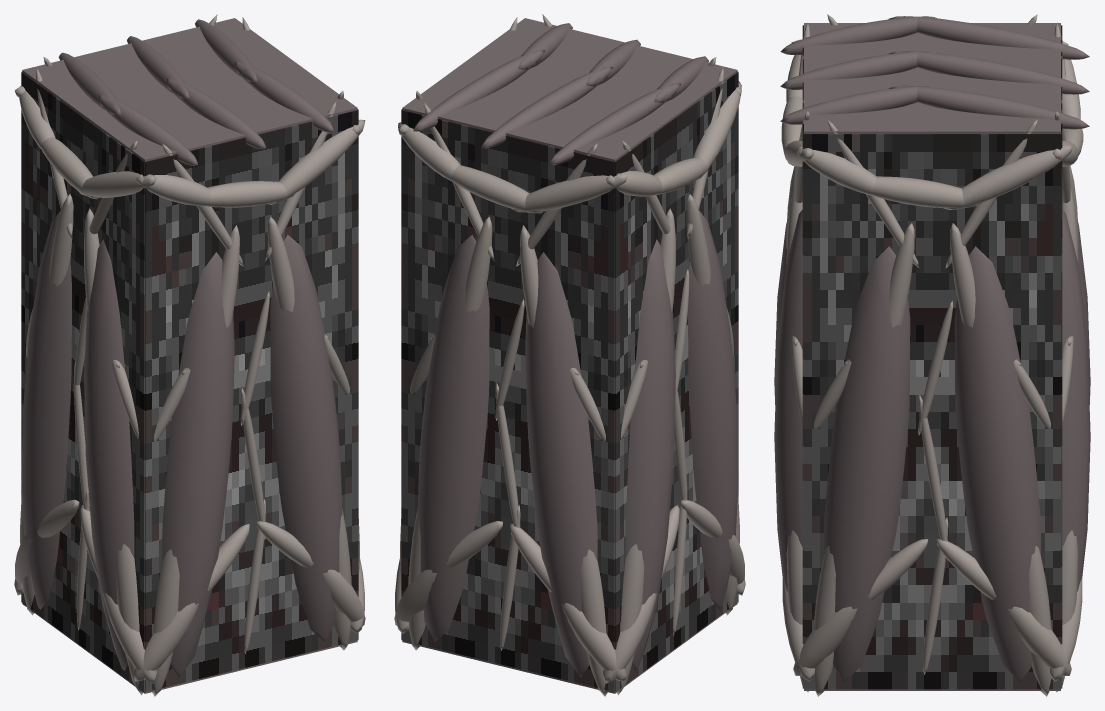
File: CMU3DHiveCMU14XenoMyceliumWall.glb
3 views of the same model, side by side, from view 1: azimuth 30°, elevation 25°; view 2: azimuth 150°, elevation 25°; view 3: azimuth 270°, elevation 25° (orthographic). The views are drawn at different scales.
Visible parts, largest first — view 1: broad exoskeletal fold (×4), source resin skin front and rear, source resin skin sides, continuous resin backing, arching load-bearing tendon (×11), sealed roof fold (×6), crown collar (×6), lower root buttress (×7), central interlocking seam (×6), branching surface crease (×3); view 2: broad exoskeletal fold (×4), source resin skin front and rear, source resin skin sides, continuous resin backing, arching load-bearing tendon (×11), sealed roof fold (×6), crown collar (×6), lower root buttress (×7), central interlocking seam (×6), branching surface crease (×3); view 3: source resin skin sides, broad exoskeletal fold (×6), continuous resin backing, sealed roof fold (×6), arching load-bearing tendon (×8), crown collar (×6), lower root buttress (×6), central interlocking seam (×3), branching surface crease (×4), source resin skin front and rear (×2).
Part boxes in pixels (<box>): broad exoskeletal fold (×4): <box>21,210,342,676</box>; source resin skin front and rear: <box>145,110,358,691</box>; source resin skin sides: <box>21,72,144,691</box>; continuous resin backing: <box>22,18,357,693</box>; arching load-bearing tendon (×11): <box>36,67,351,696</box>; sealed roof fold (×6): <box>58,19,334,165</box>; crown collar (×6): <box>19,90,365,207</box>; lower root buttress (×7): <box>15,499,365,683</box>; central interlocking seam (×6): <box>73,291,269,653</box>; branching surface crease (×3): <box>112,334,349,441</box>; broad exoskeletal fold (×4): <box>417,210,738,676</box>; source resin skin front and rear: <box>401,110,614,691</box>; source resin skin sides: <box>615,72,738,691</box>; continuous resin backing: <box>402,18,737,693</box>; arching load-bearing tendon (×11): <box>408,67,723,696</box>; sealed roof fold (×6): <box>413,23,708,164</box>; crown collar (×6): <box>398,81,741,213</box>; lower root buttress (×7): <box>394,500,744,683</box>; central interlocking seam (×6): <box>495,269,689,650</box>; branching surface crease (×3): <box>410,334,647,441</box>; source resin skin sides: <box>804,134,1060,689</box>; broad exoskeletal fold (×6): <box>774,210,1090,681</box>; continuous resin backing: <box>804,23,1060,690</box>; sealed roof fold (×6): <box>780,16,1089,129</box>; arching load-bearing tendon (×8): <box>786,119,1078,696</box>; crown collar (×6): <box>781,40,1080,209</box>; lower root buttress (×6): <box>782,539,1082,681</box>; central interlocking seam (×3): <box>918,301,953,674</box>; branching surface crease (×4): <box>791,336,1073,428</box>; source resin skin front and rear (×2): <box>802,25,1062,688</box>.
Size of the model in its own units: 1.23 by 2.5 by 1.23.
3 materials, 1 textured.
